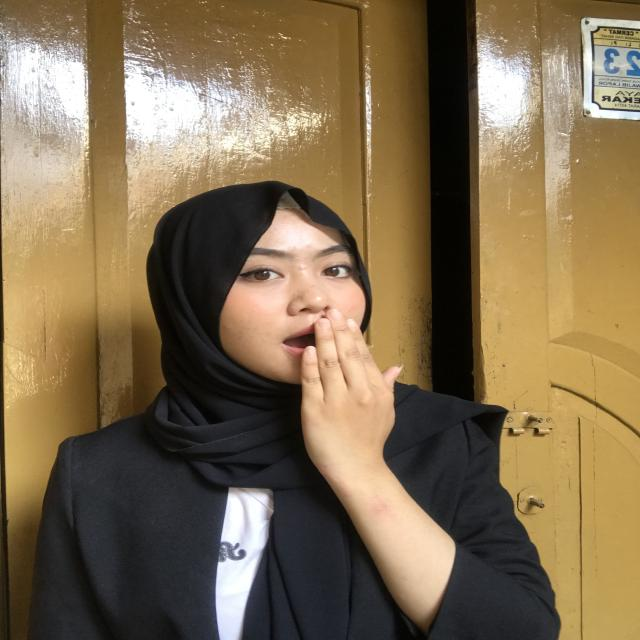ngantuk: (262, 296, 408, 502)
